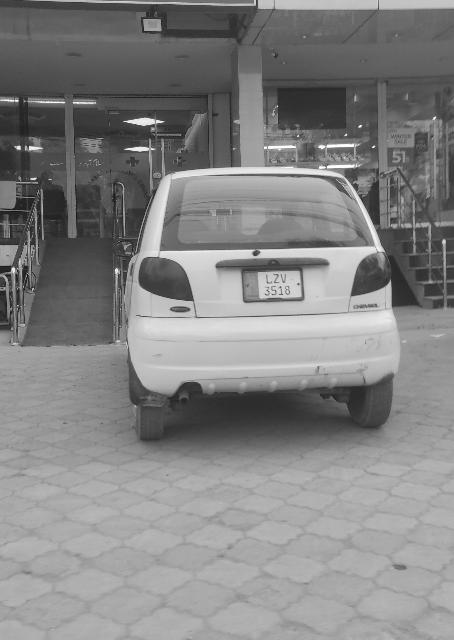Number: (264, 272, 292, 298)
